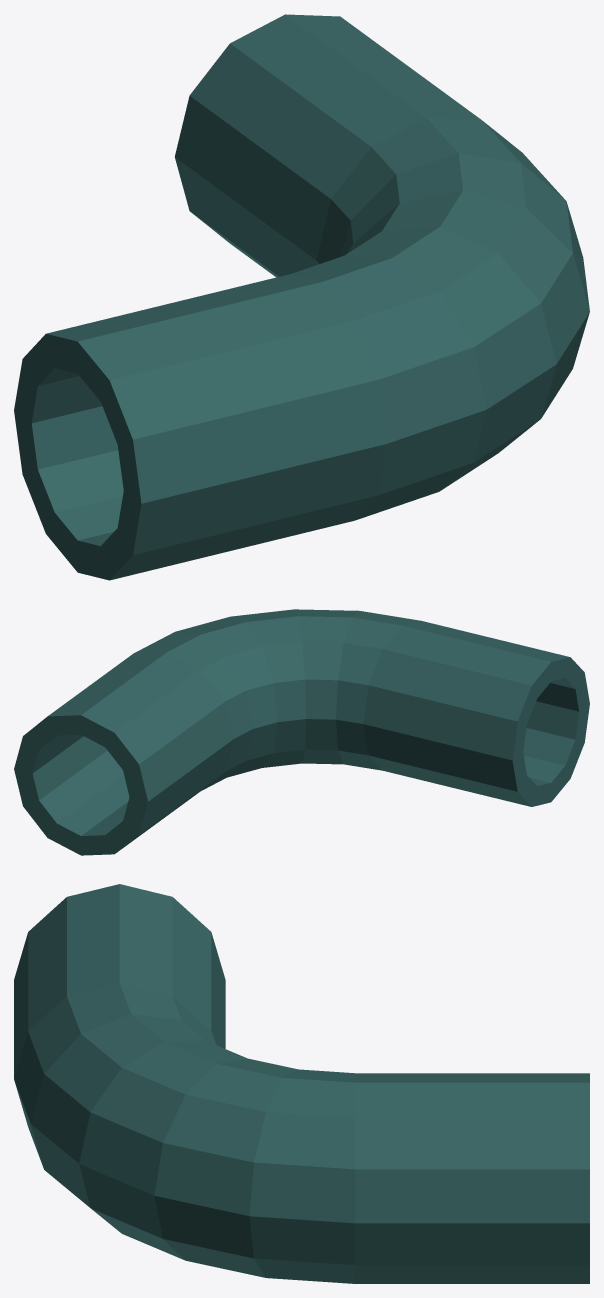
File: pipe-elbow.glb
3 renders of one model, top to bottom at view 1: azimuth 30°, elevation 25°; view 2: azimuth 150°, elevation 25°; view 3: azimuth 270°, elevation 25°, orthographic. The views are drawn at different scales.
Visible parts, largest first — view 1: pipe-elbow__body; view 2: pipe-elbow__body; view 3: pipe-elbow__body.
Boxes of the visible parts, <box> form: pipe-elbow__body: <box>14,14,589,580</box>; pipe-elbow__body: <box>14,609,589,855</box>; pipe-elbow__body: <box>14,884,589,1283</box>.
Size of the model in its own units: 0.98 by 0.36 by 0.98.
